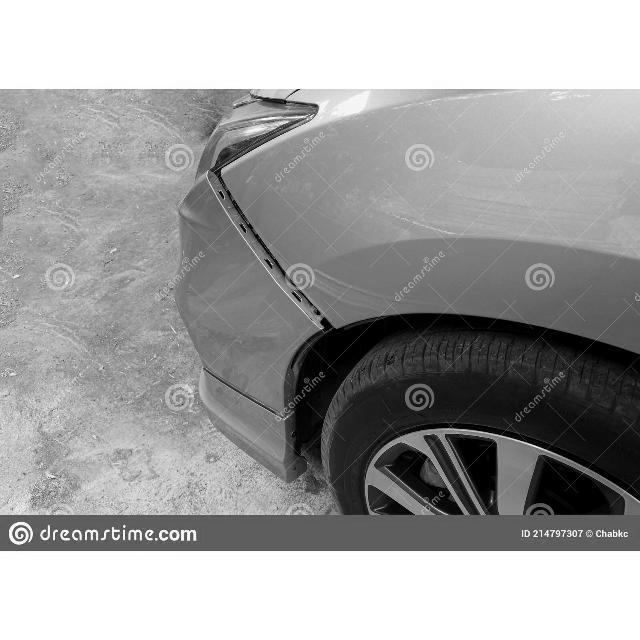front-bumper-dent: (152, 134, 363, 476)
